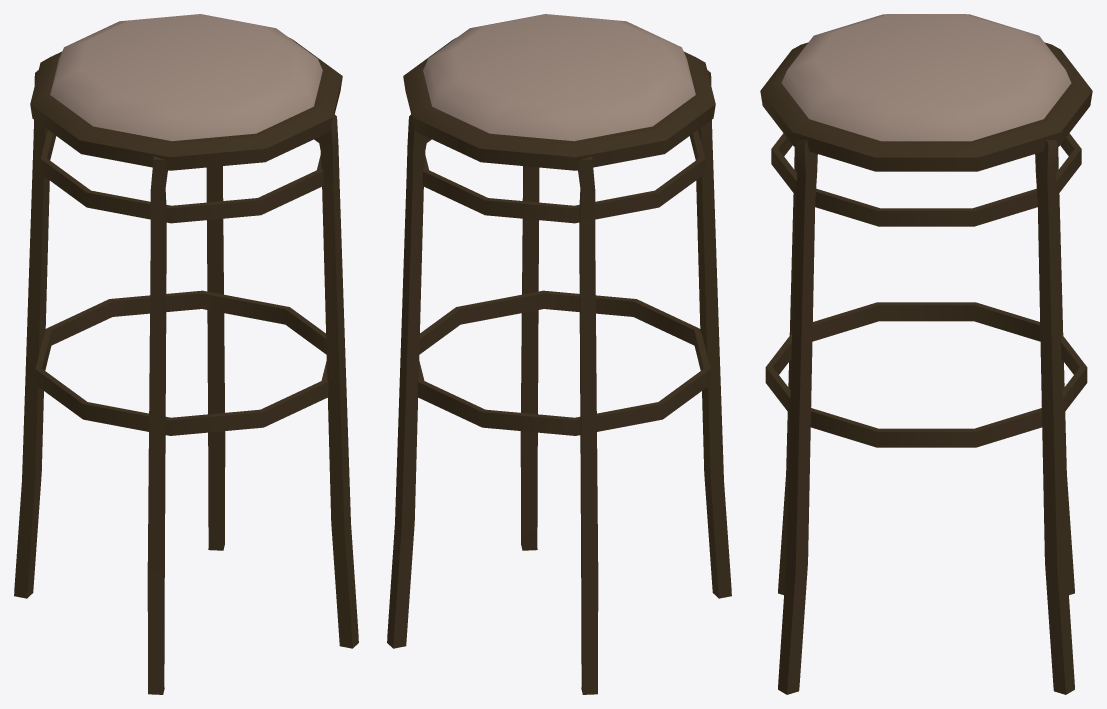
File: q-stool.glb
3 views of the same model, side by side, from view 1: azimuth 30°, elevation 25°; view 2: azimuth 150°, elevation 25°; view 3: azimuth 270°, elevation 25° (orthographic). The views are drawn at different scales.
Parts seen in each view (by area): view 1: Stool; view 2: Stool; view 3: Stool.
Part boxes in pixels (x1,y1,x2,y2): Stool: (14,14,358,694); Stool: (387,14,731,694); Stool: (760,14,1092,694).
Bounding box in the file's own units: 0.6753 × 1.37 × 0.7101.
